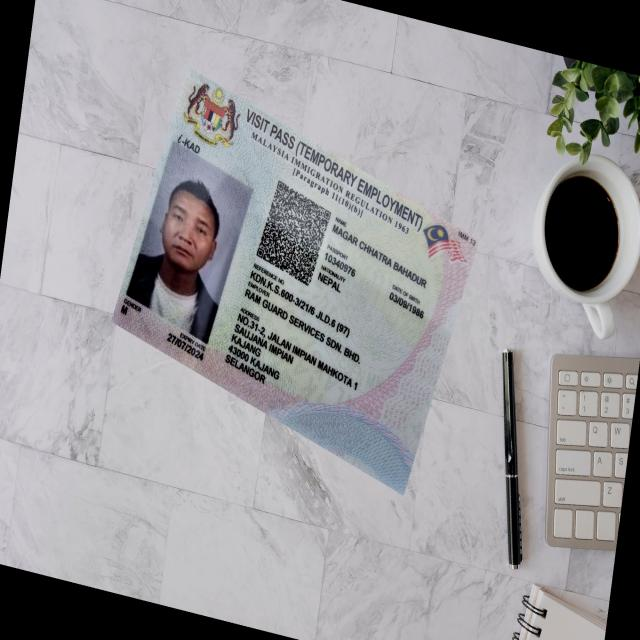ikad-temp: (110, 67, 478, 496)
